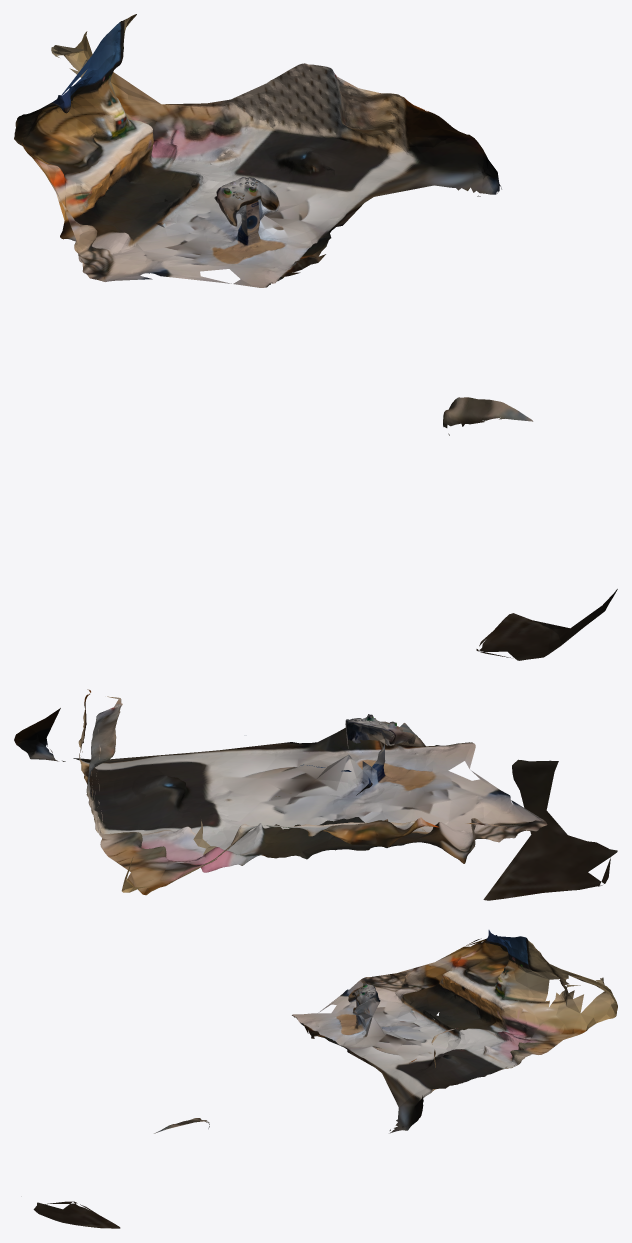
The model's file is gamepad_from_scaniverse.glb.
3 renders of one model, top to bottom at view 1: azimuth 30°, elevation 25°; view 2: azimuth 150°, elevation 25°; view 3: azimuth 270°, elevation 25°, orthographic. The views are drawn at different scales.
Visible parts, largest first — view 1: mesh; view 2: mesh; view 3: mesh.
Part boxes in pixels (x1,y1,x2,y2): mesh: [14, 14, 617, 660]; mesh: [14, 689, 617, 900]; mesh: [33, 930, 617, 1228].
Bounding box in the file's own units: 1.18 × 1.03 × 2.15.
1 material, 1 textured.
